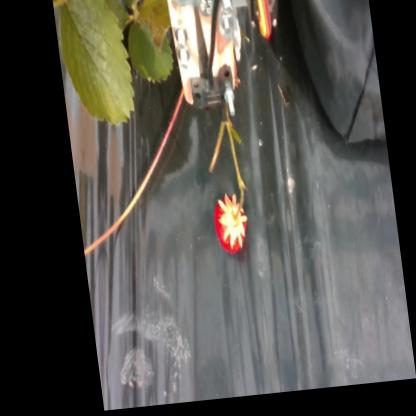ripe: (200, 197, 246, 259)
